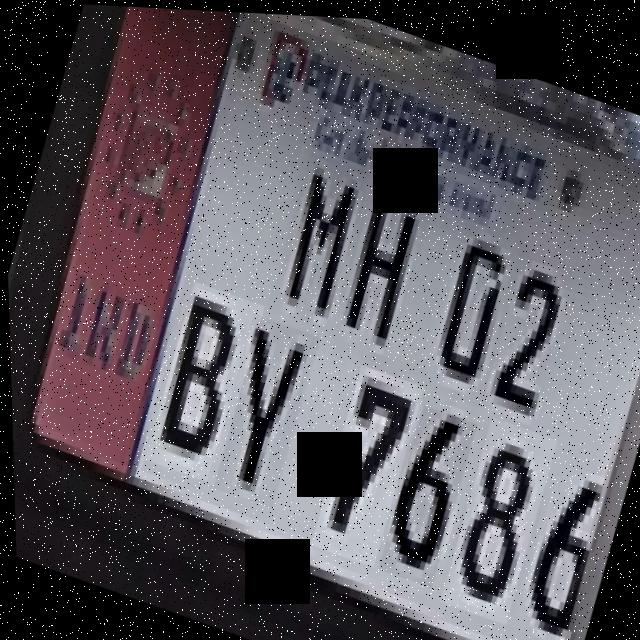0: (410, 211, 523, 391)
6: (503, 458, 617, 640), (371, 399, 479, 586)
7: (303, 358, 427, 566)
8: (432, 410, 558, 622)
B: (137, 277, 266, 485)
H: (324, 179, 435, 365)
M: (261, 146, 374, 330)
Y: (198, 309, 322, 508)
